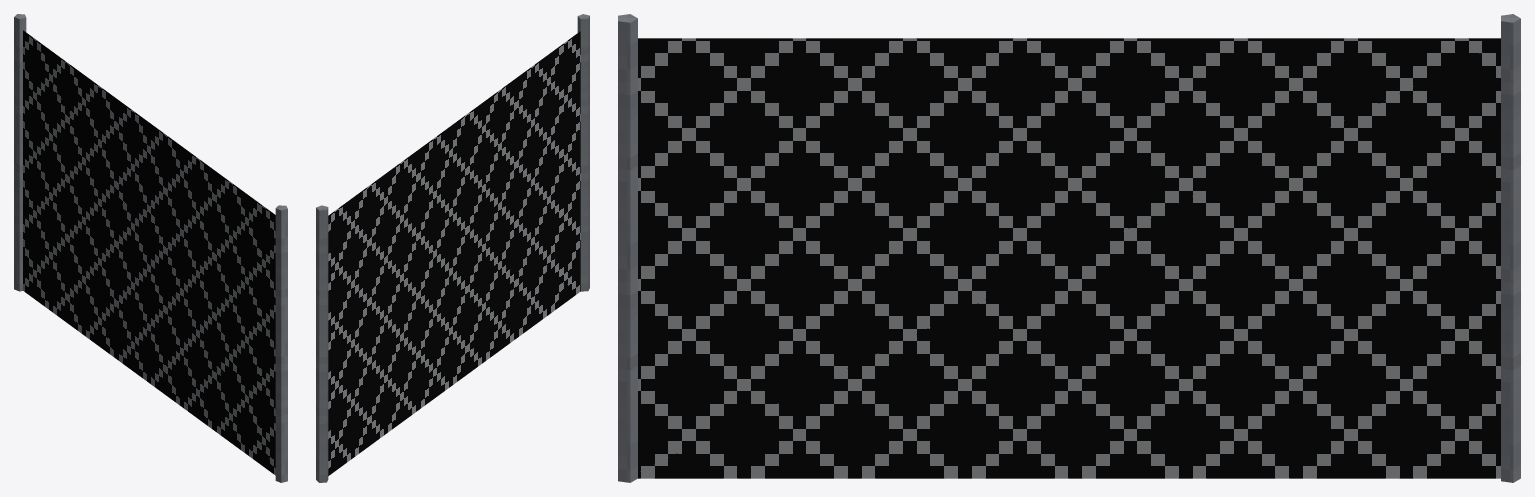
File: env_chainlink_fence.glb
3 views of the same model, side by side, from view 1: azimuth 30°, elevation 25°; view 2: azimuth 150°, elevation 25°; view 3: azimuth 270°, elevation 25° (orthographic). The views are drawn at different scales.
Visible parts, largest first — view 1: env_chainlink_fence; view 2: env_chainlink_fence; view 3: env_chainlink_fence.
Boxes of the visible parts, x1,y1,x2,y2 form: env_chainlink_fence: [14, 14, 287, 482]; env_chainlink_fence: [316, 14, 589, 482]; env_chainlink_fence: [618, 14, 1520, 482].
Bounding box in the file's own units: 0.0951 × 2.3 × 4.09.
Materials: 2 (2 with a texture image).
